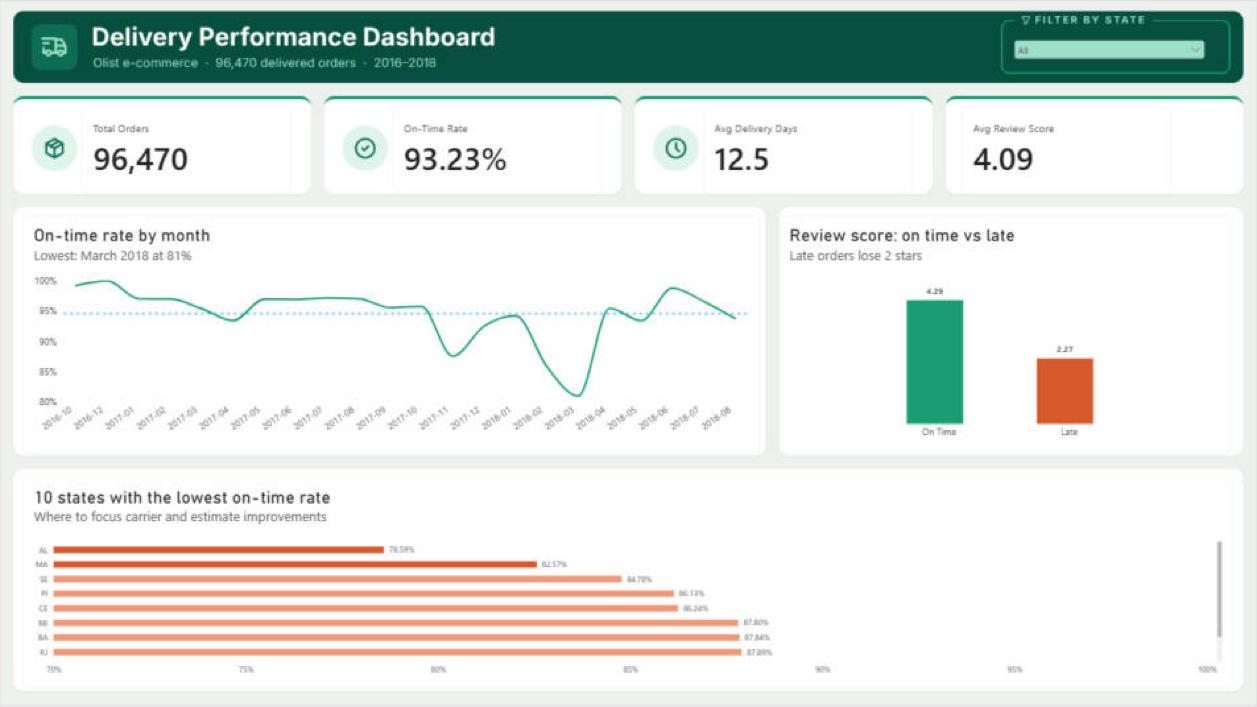

The dashboard page shown, as its layout file describes it:
{"tool":"powerbi","page":{"name":"Page ١","canvas":[1920,1080],"ordinal":0},"visuals":[{"type":"cardVisual","fields":{"Data":["orders.Total Orders Label"]},"box":[125,160,320,134],"z":0},{"type":"cardVisual","fields":{"Data":["orders.On-Time Rate"]},"box":[600,160,320,134],"z":1000},{"type":"cardVisual","fields":{"Data":["orders.Avg Delivery Days"]},"box":[1075,160,320,134],"z":2000},{"type":"cardVisual","fields":{"Data":["orders.Avg Review Score"]},"box":[1470,160,320,134],"z":3000},{"type":"clusteredBarChart","title":"10 states with the lowest on-time rate\t","fields":{"Category":["customers.customer_state"],"Y":["orders.On-Time Rate"]},"box":[35,728,1850,324],"z":4000},{"type":"lineChart","title":"On-time rate by month\t","fields":{"Category":["orders.Purchase Month"],"Y":["orders.On-Time Rate"]},"box":[35,328,1125,364],"z":5000},{"type":"clusteredColumnChart","title":"Review score: on time vs late\t","fields":{"Category":["orders.Delivery Status"],"Y":["orders.Avg Review Score"]},"box":[1190,328,690,364],"z":6000},{"type":"slicer","fields":{"Values":["customers.customer_state"]},"box":[1545,54,300,50],"z":7001}]}

Visuals, with their boxes in screenshot pixels (x1, y1, x2, y2), scaled from the page's 1920x1080 canvas onto the 1257x707 screenshot:
cardVisual - orders.Total Orders Label: x1=82 y1=105 x2=291 y2=192
cardVisual - orders.On-Time Rate: x1=393 y1=105 x2=602 y2=192
cardVisual - orders.Avg Delivery Days: x1=704 y1=105 x2=913 y2=192
cardVisual - orders.Avg Review Score: x1=962 y1=105 x2=1172 y2=192
"10 states with the lowest on-time rate	" clusteredBarChart: x1=23 y1=477 x2=1234 y2=689
"On-time rate by month	" lineChart: x1=23 y1=215 x2=759 y2=453
"Review score: on time vs late	" clusteredColumnChart: x1=779 y1=215 x2=1231 y2=453
slicer - customers.customer_state: x1=1011 y1=35 x2=1208 y2=68
